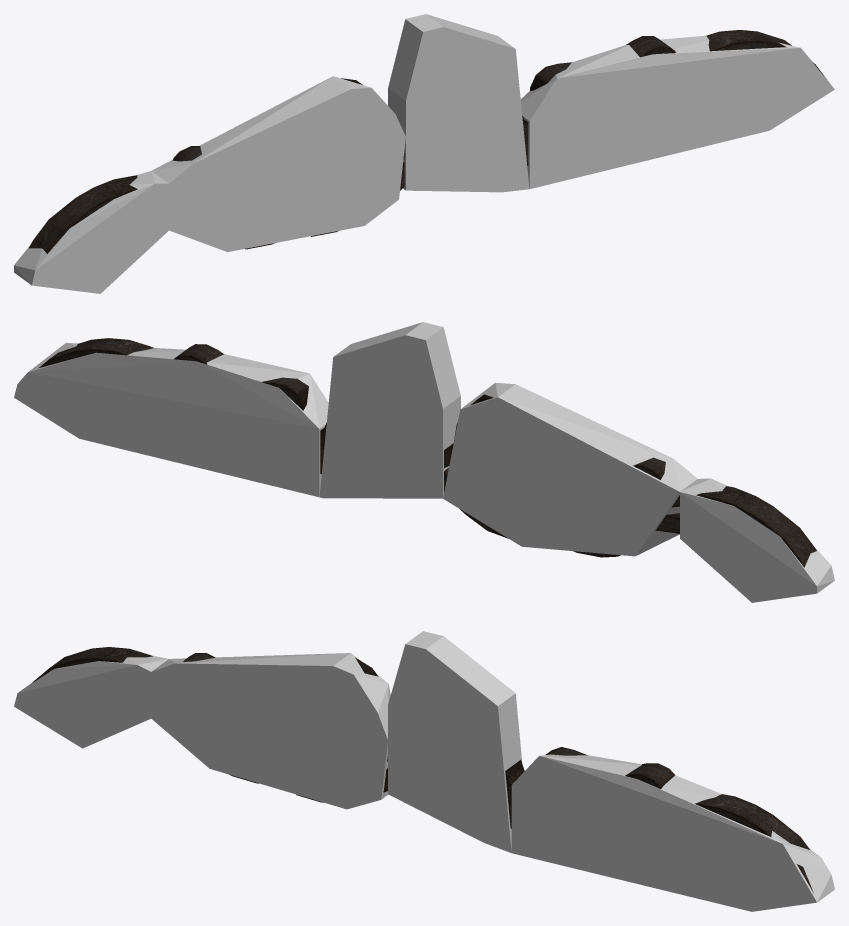
3 views of the same model, one above another, from view 1: azimuth 30°, elevation 25°; view 2: azimuth 150°, elevation 25°; view 3: azimuth 330°, elevation 25° (orthographic).
Parts seen in each view (by area): view 1: SM_27_ConvexHulls, SM_27; view 2: SM_27_ConvexHulls, SM_27; view 3: SM_27_ConvexHulls, SM_27.
Boxes of the visible parts, x1,y1,x2,y2 form: SM_27_ConvexHulls: [14, 14, 834, 293]; SM_27: [29, 30, 826, 253]; SM_27_ConvexHulls: [14, 322, 834, 602]; SM_27: [39, 338, 816, 567]; SM_27_ConvexHulls: [14, 631, 834, 911]; SM_27: [32, 647, 813, 892].
Size of the model in its own units: 1872 by 71.99 by 408.
Materials: 2 (1 with a texture image).
